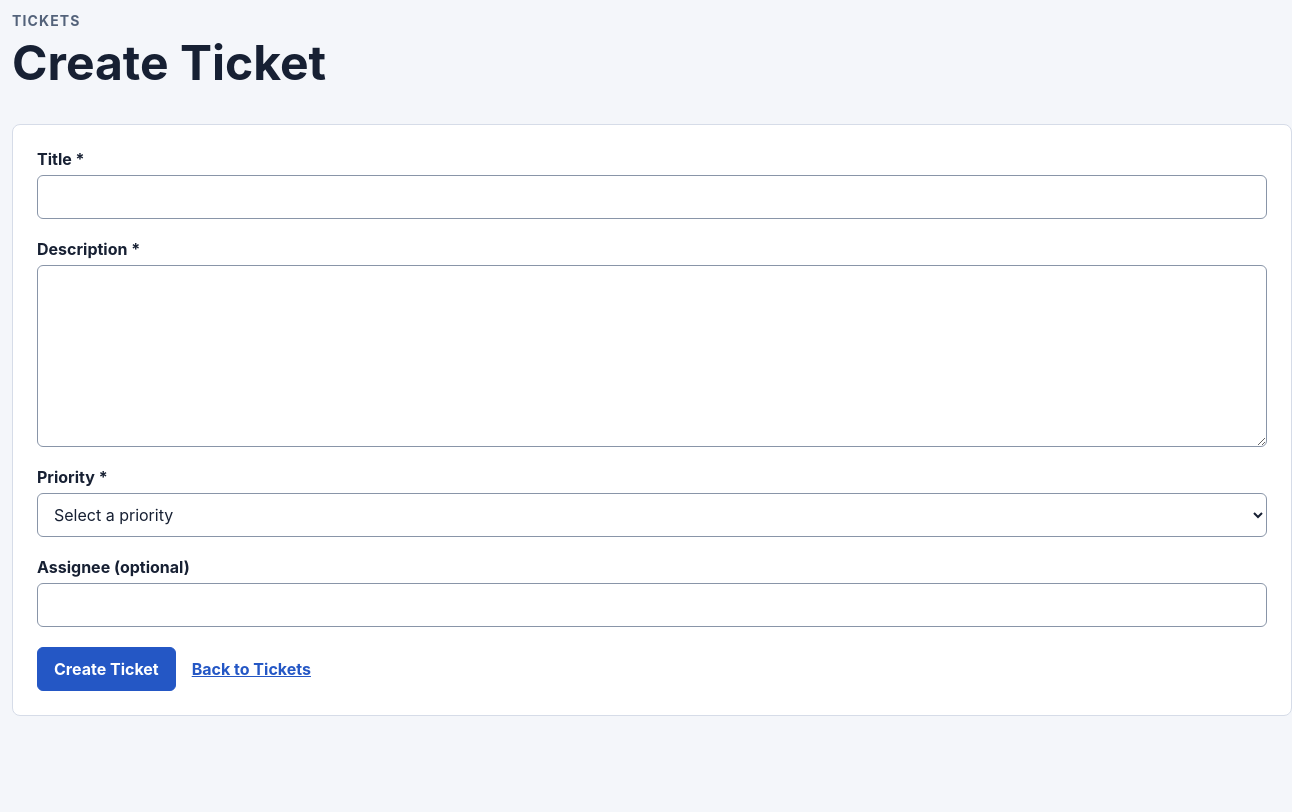
Test case: Create Ticket › prevents duplicate submission and preserves values after failure
Type "A ticket" into the field labelled "Title *".
click(652, 197); type("A ticket")  # box [37,175,1267,219]
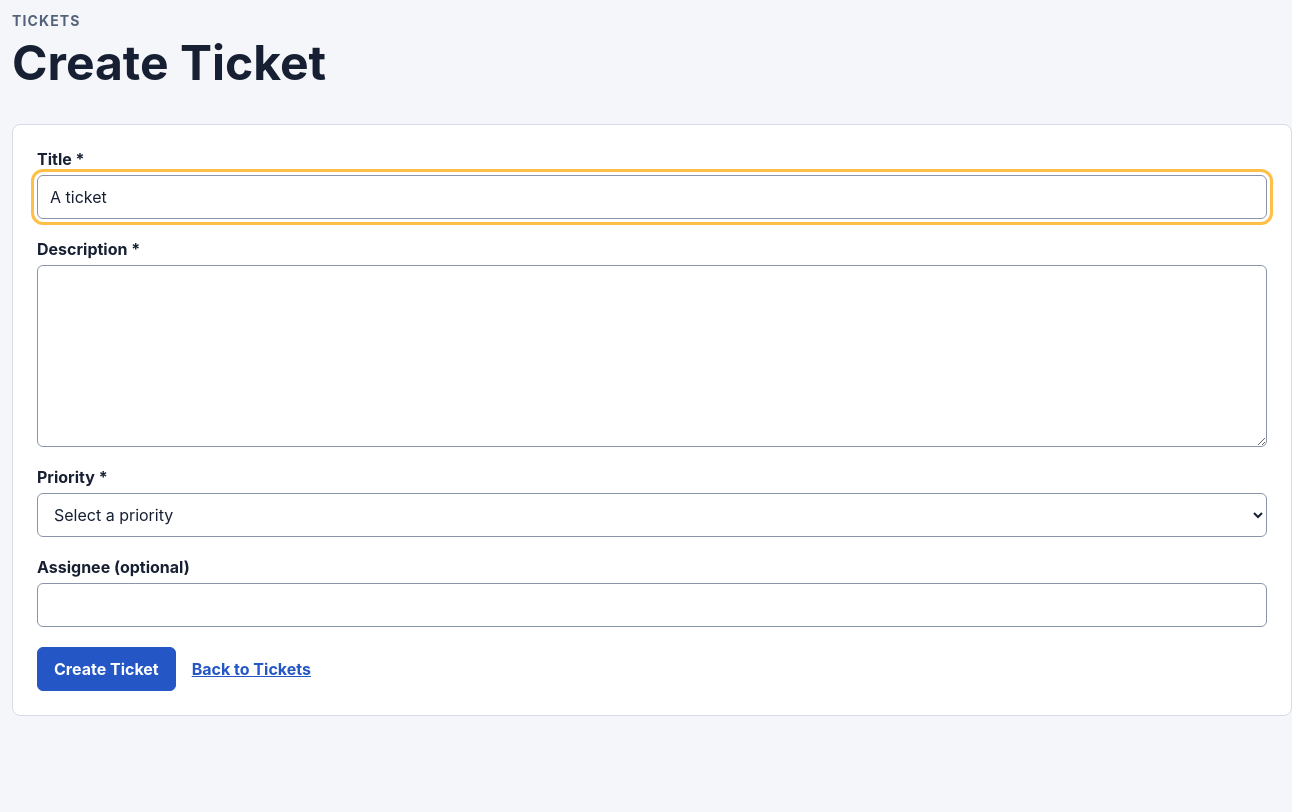
Type "A description" into the text box labelled "Description *".
click(652, 356); type("A description")  # box [37,265,1267,447]
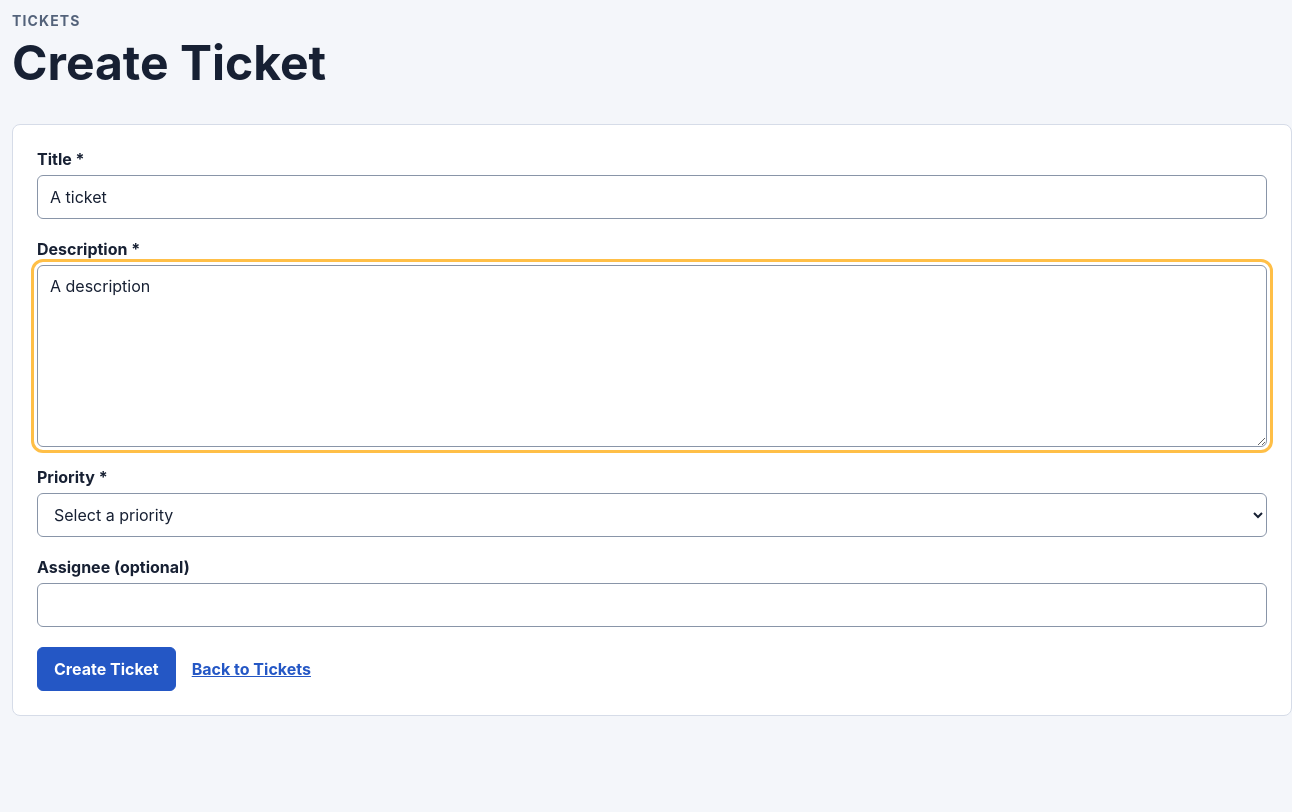
Select "High" in the dropdown labelled "Priority *" at (652, 515), box [37,493,1267,537]
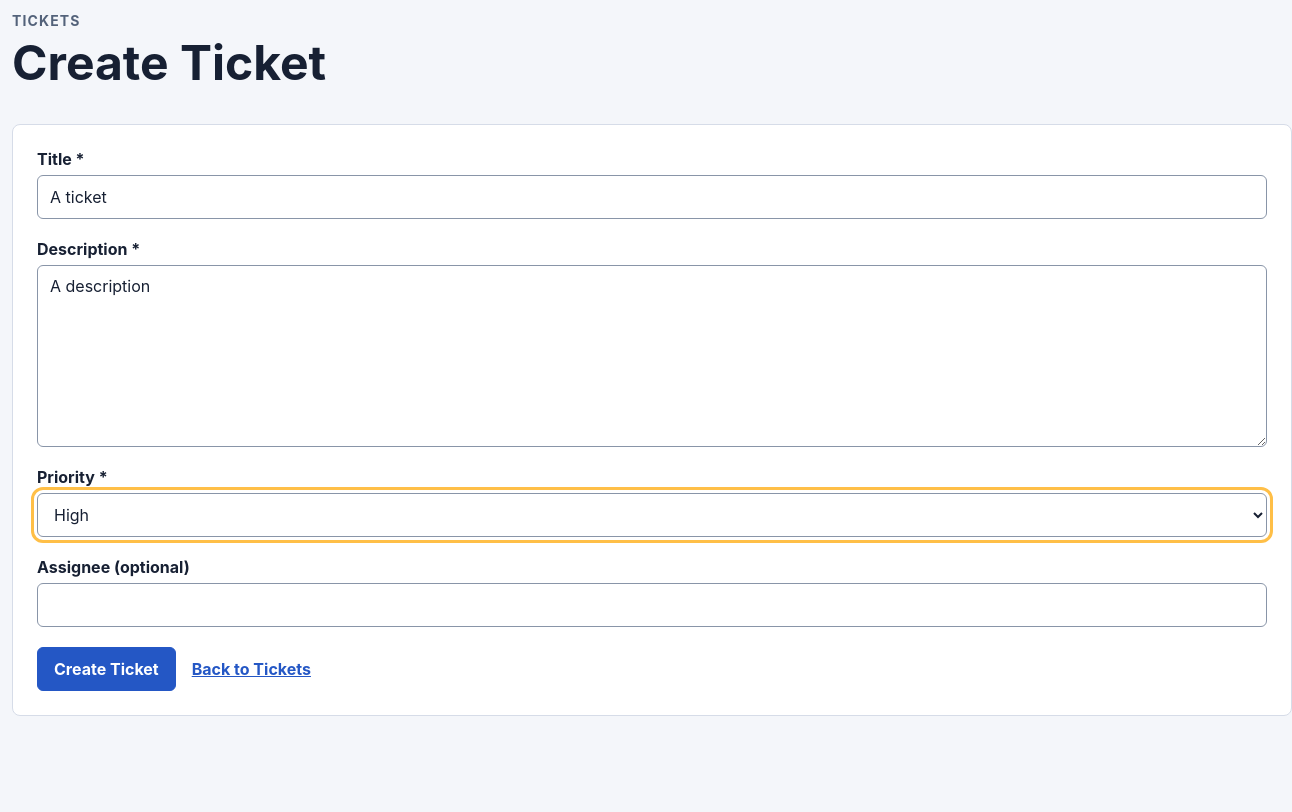
Click the button "Create Ticket".
click(106, 669)  # box [37,647,176,691]
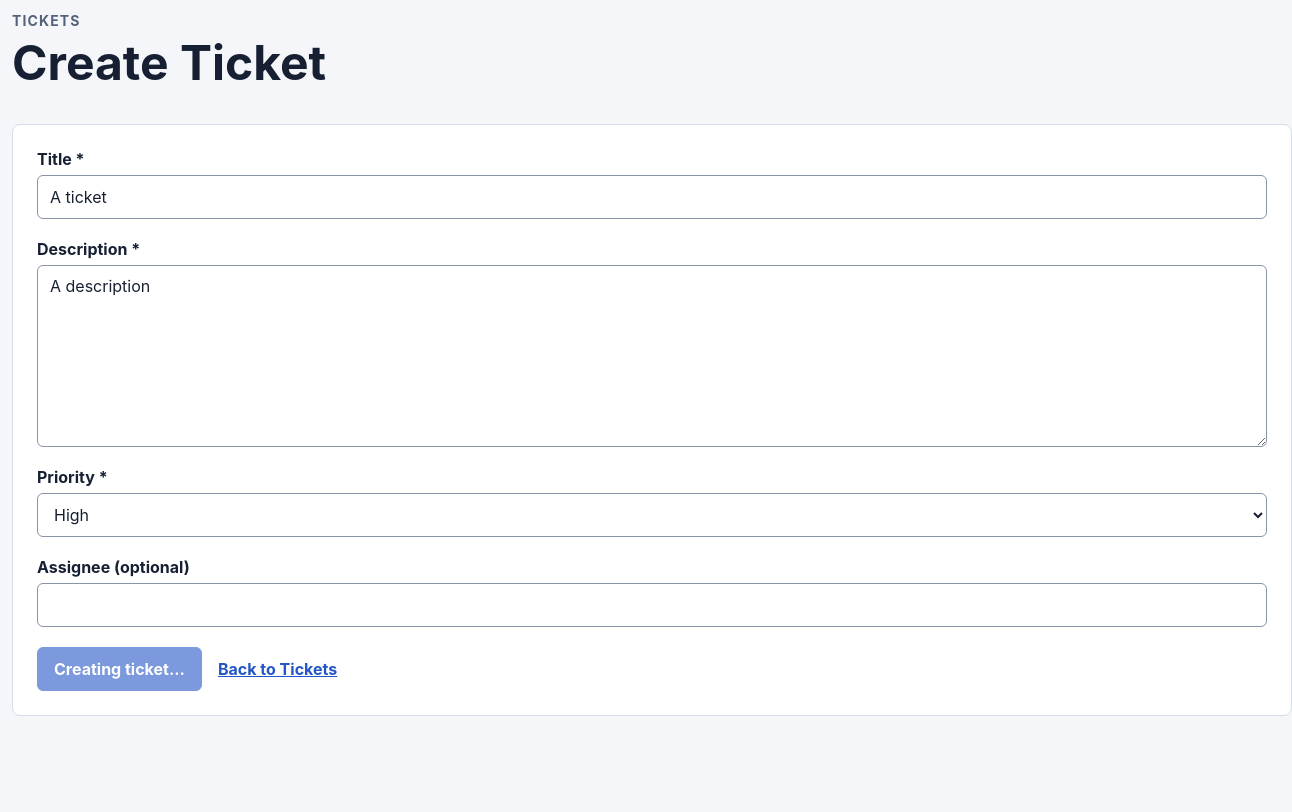
Result: the button "Creating ticket..." is disabled
Click the button "Creating ticket...".
click(120, 669)  # box [37,647,202,691]
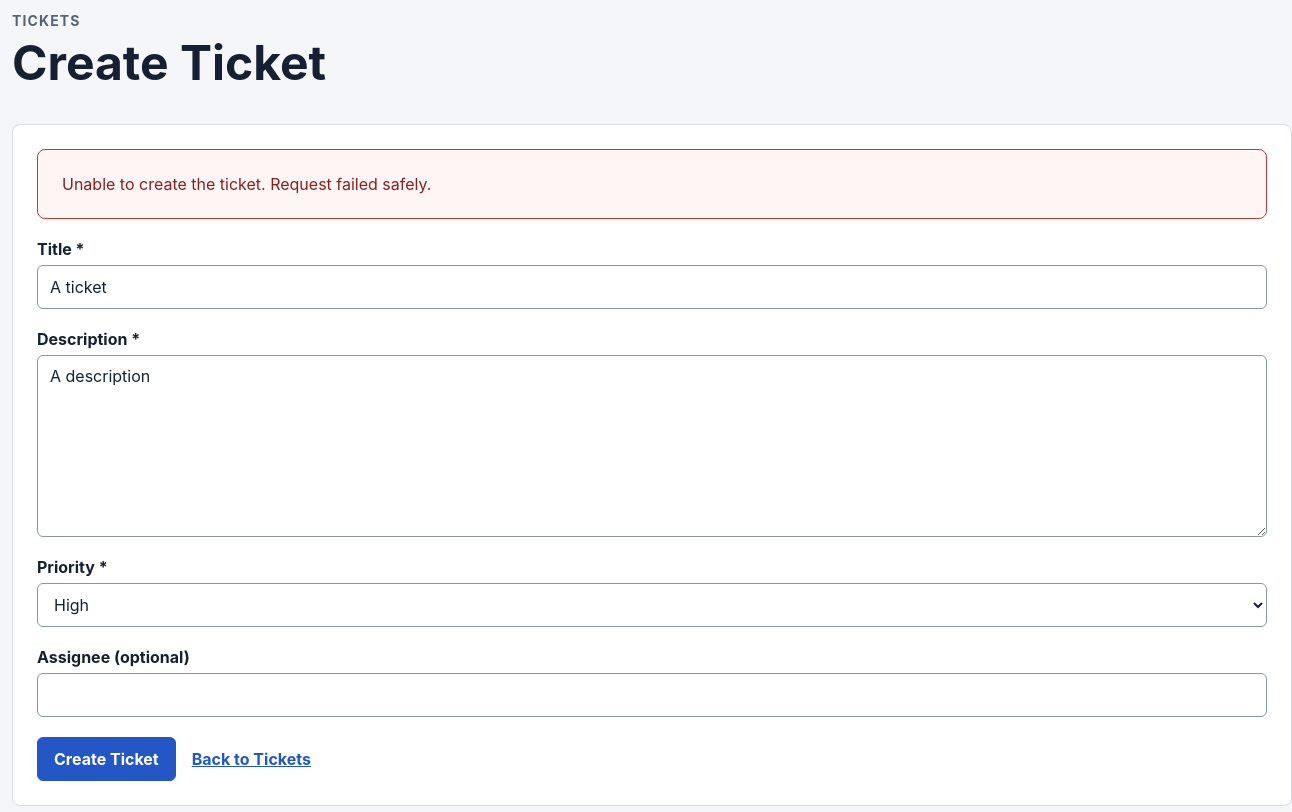
Result: the message shows "Request failed safely" at [270,174,432,194]
